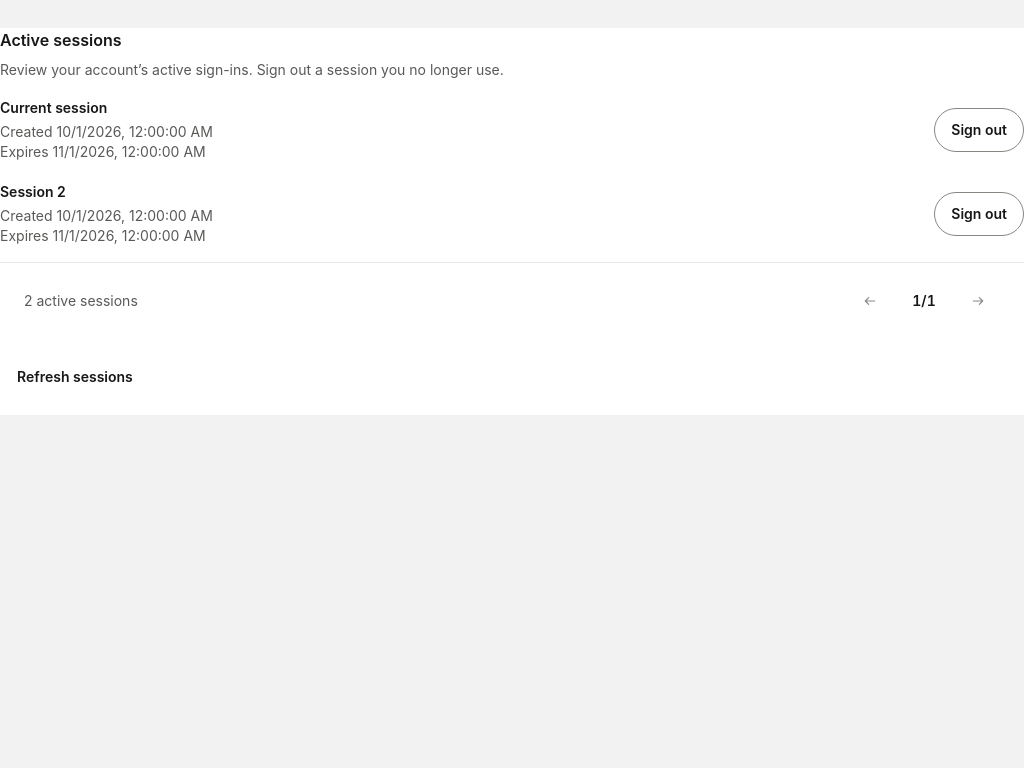
it: ActiveSessionsPanel › protects pending confirmation and retains failed revocation for an explicit retry
The image size is (1024, 768).
Click the button with aria-label "Sign out session 2" at (979, 214), box [934,192,1023,236]
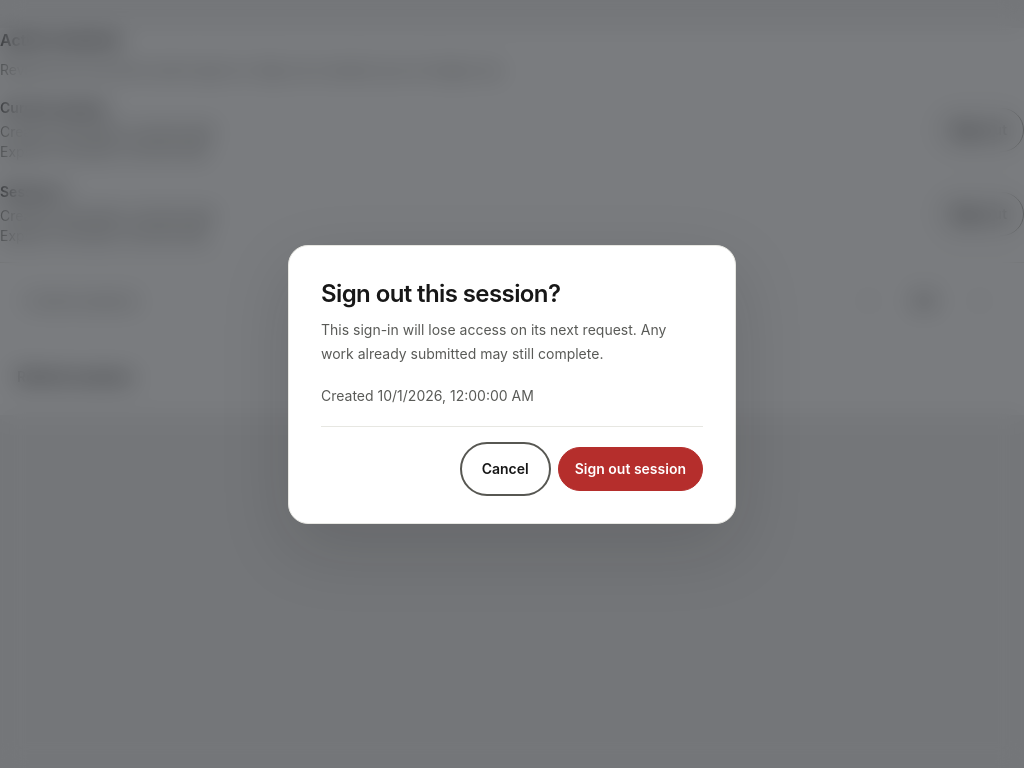
Click the button "Sign out session" at (630, 468), box [558,446,703,490]
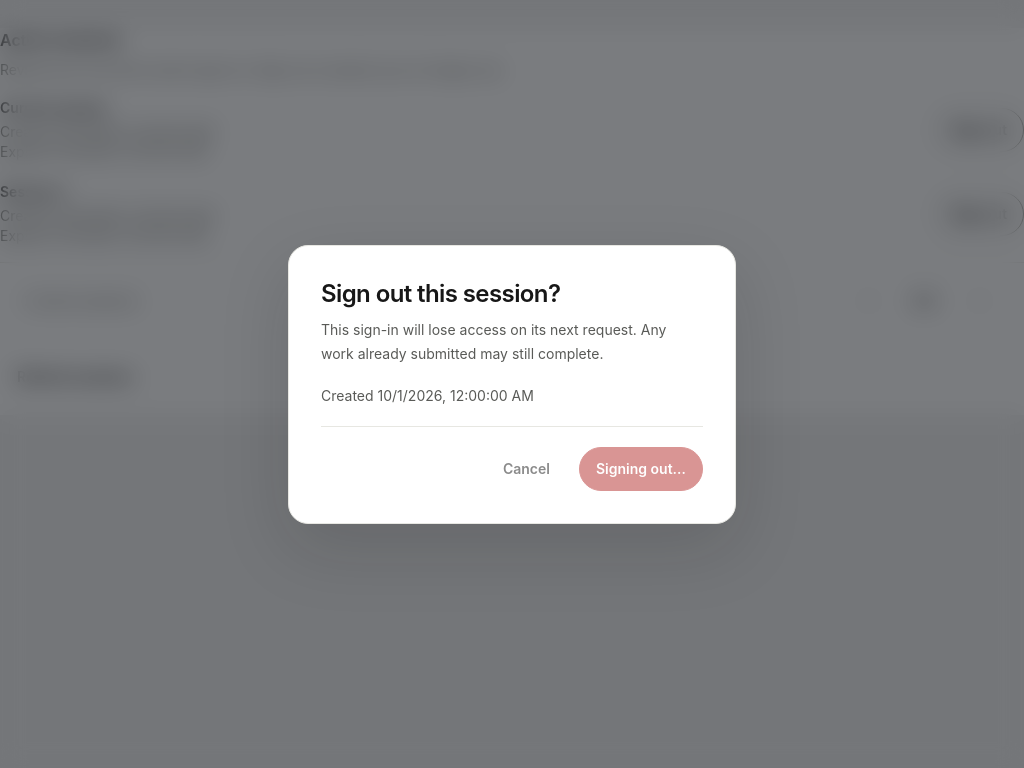
Expected: the button "Cancel" is disabled, [486,446,567,490]
Click the button "Signing out…" at (641, 468), box [579,446,703,490]
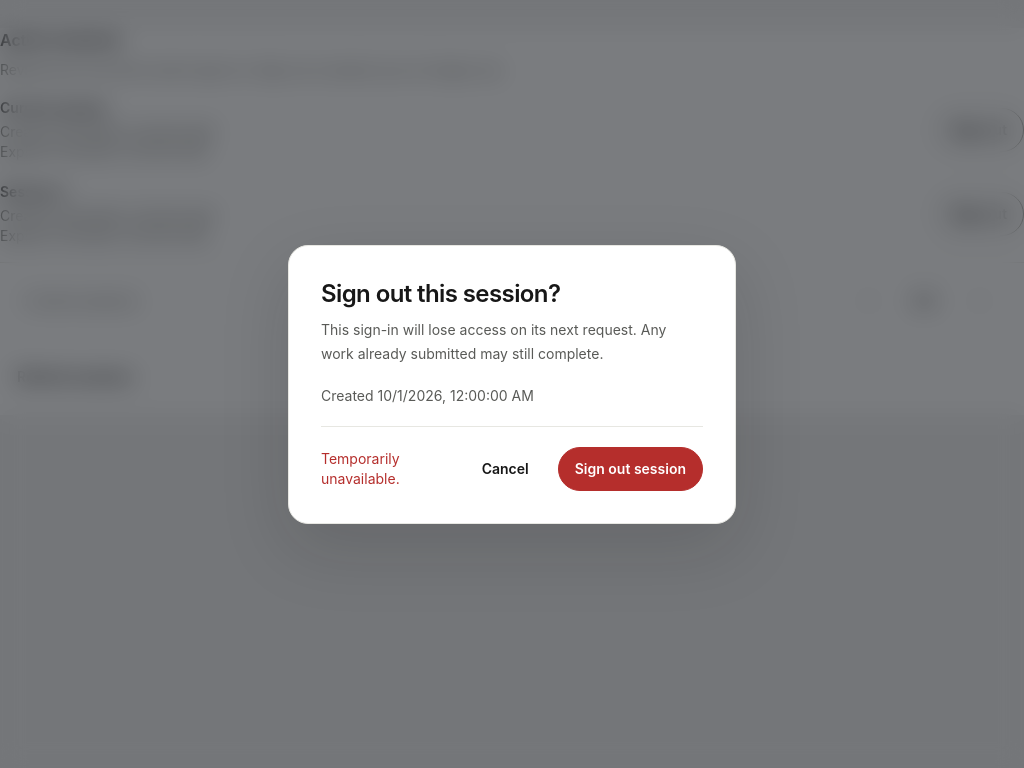
Expected: the message reads "Temporarily unavailable.", [321,450,400,486]
Expected: the button "Sign out session" is enabled, [558,446,703,490]
